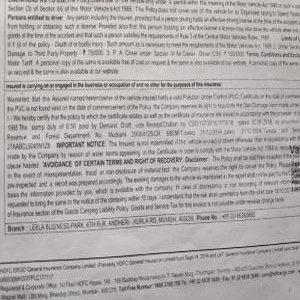text: (6, 89, 300, 218), (6, 1, 300, 78)
